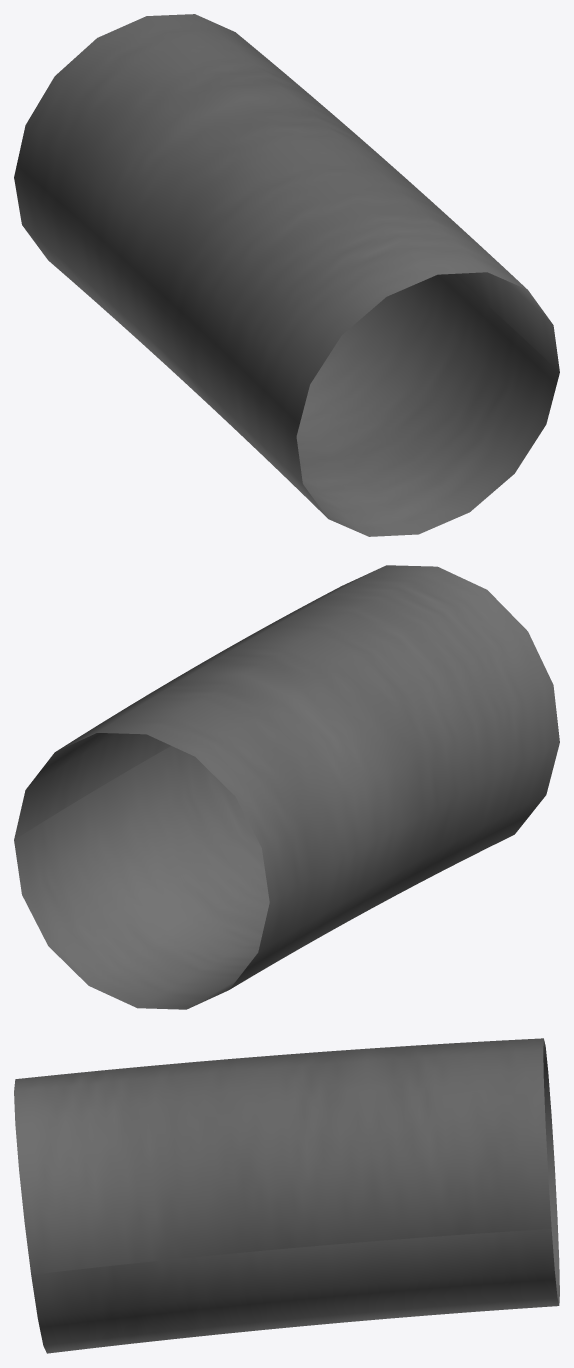
Rendered from mastarmcurve_8x2_c8.obj.
3 views of the same model, one above another, from view 1: azimuth 30°, elevation 25°; view 2: azimuth 150°, elevation 25°; view 3: azimuth 270°, elevation 25° (orthographic). The views are drawn at different scales.
Parts seen in each view (by area): view 1: mastarm_8x2_c8; view 2: mastarm_8x2_c8; view 3: mastarm_8x2_c8.
Part boxes in pixels (bbox=[...]): mastarm_8x2_c8: bbox=[14, 14, 559, 536]; mastarm_8x2_c8: bbox=[14, 565, 559, 1009]; mastarm_8x2_c8: bbox=[14, 1038, 559, 1353].
Size of the model in its own units: 0.5312 by 0.6146 by 1.05.
